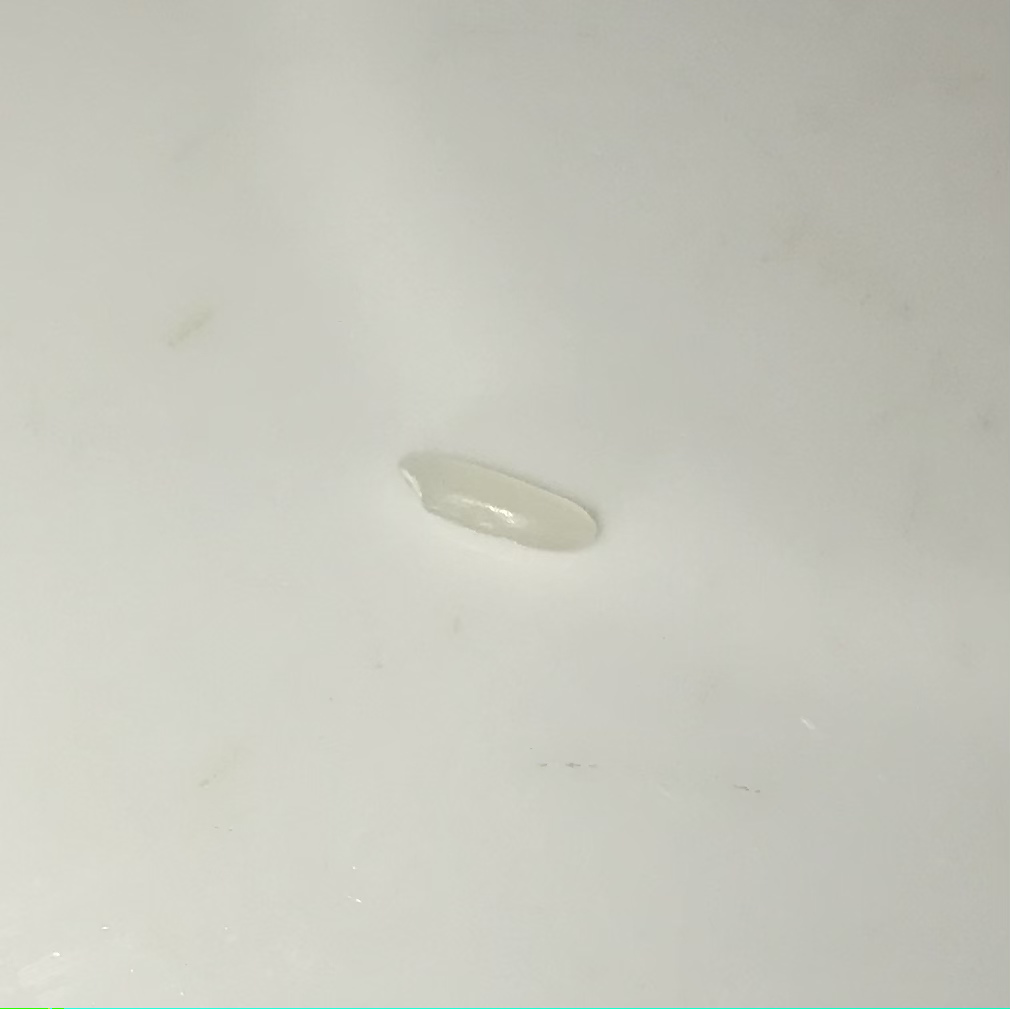Gao Ngoc Troi: (364, 417, 624, 567)
